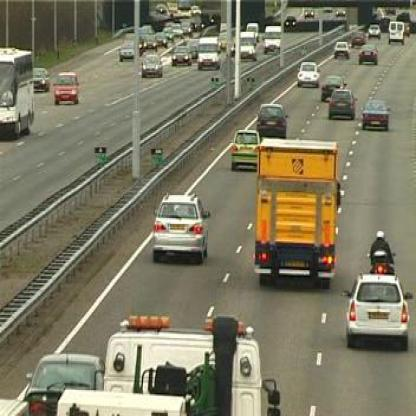other: (249, 134, 340, 278)
